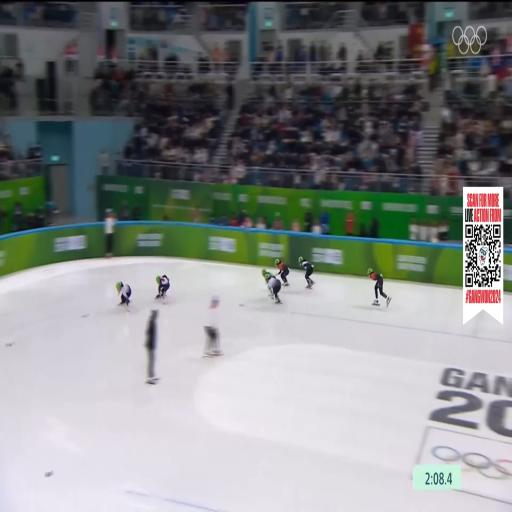Skater: (367, 269, 391, 307), (262, 269, 281, 303), (299, 257, 314, 288), (275, 259, 289, 286), (116, 282, 131, 306), (156, 275, 169, 299)
